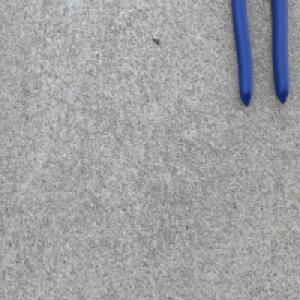Pliers: (230, 0, 291, 108)
